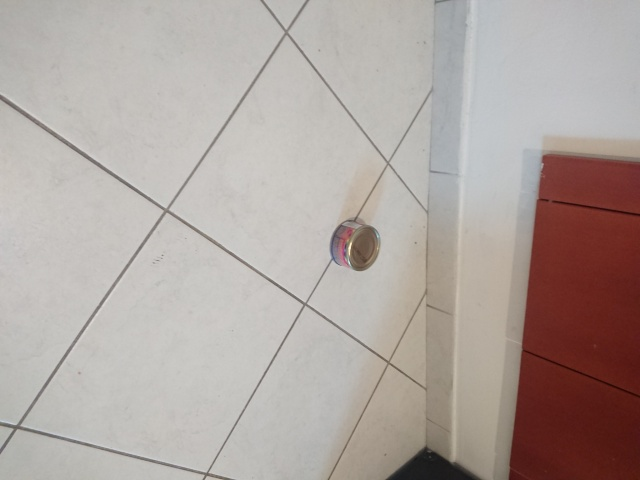Giana Tuna Salad Mexico 185g: (327, 218, 383, 274)
